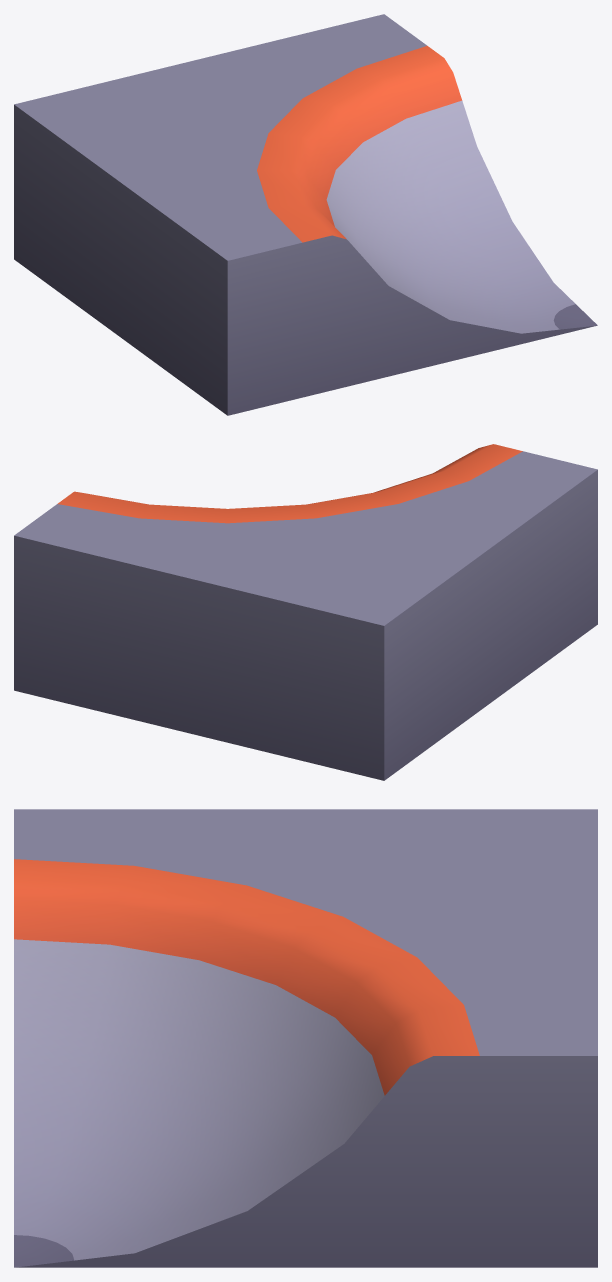
File: mini-skate--bowl-corner-inner-low.glb
3 views of the same model, one above another, from view 1: azimuth 30°, elevation 25°; view 2: azimuth 150°, elevation 25°; view 3: azimuth 270°, elevation 25° (orthographic). The views are drawn at different scales.
Visible parts, largest first — view 1: bowl-corner-inner-low; view 2: bowl-corner-inner-low; view 3: bowl-corner-inner-low.
Boxes of the visible parts, <box> form: bowl-corner-inner-low: <box>14,14,597,415</box>; bowl-corner-inner-low: <box>14,444,597,780</box>; bowl-corner-inner-low: <box>14,809,597,1267</box>.
Size of the model in its own units: 1 by 0.4 by 1.
1 material, 1 textured.
